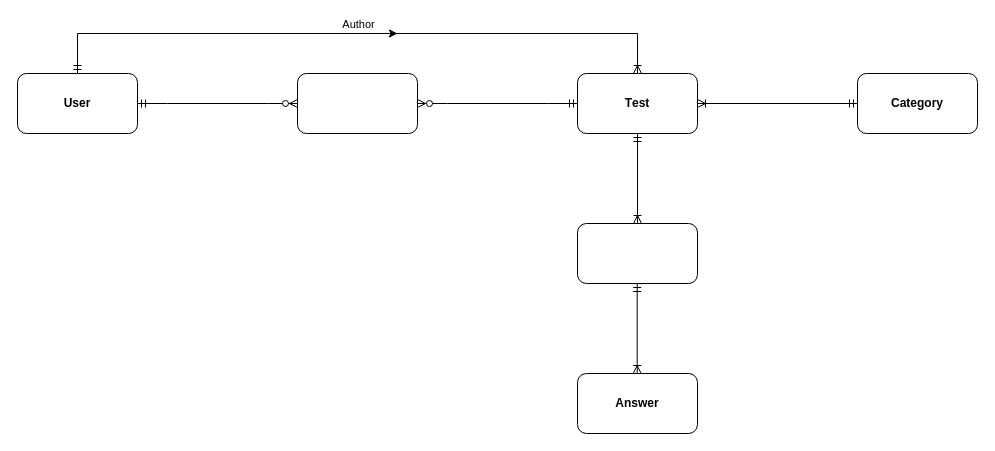
The diagram is 995 pixels wide and 451 high, and some of its shapes have lost their labels. The shapes that lost their labels are listed below. From the top down, each one's box as (x1, y1, x2, y2) in pixels, then its label:
(296, 72, 418, 134): ТestsUser
(576, 222, 698, 284): Queston
